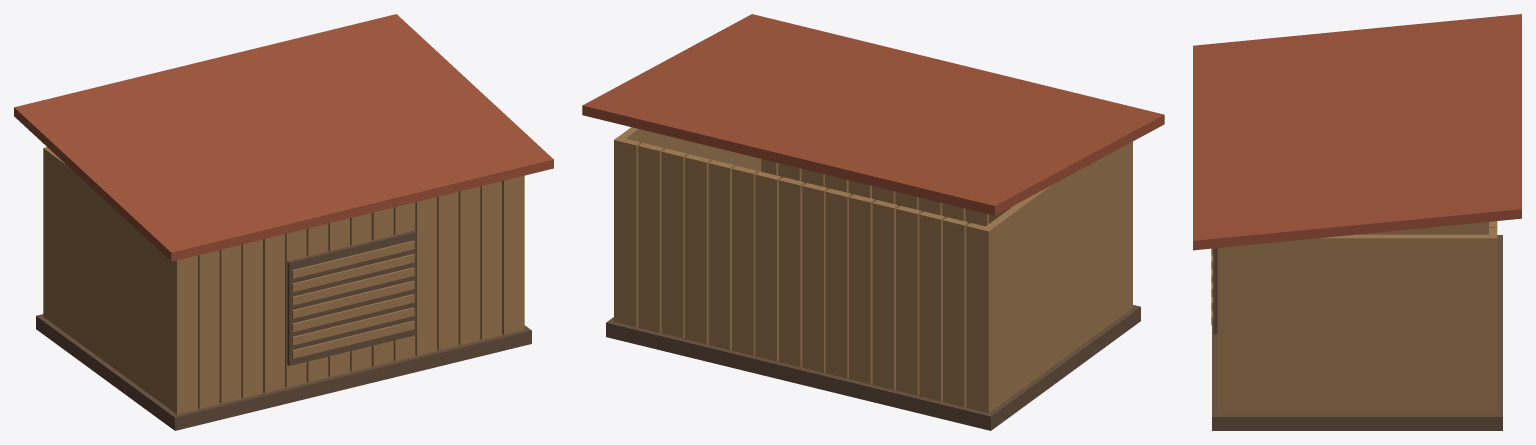
File: shed.glb
The picture shows the model from 3 angles, left to right: view 1: azimuth 30°, elevation 25°; view 2: azimuth 150°, elevation 25°; view 3: azimuth 270°, elevation 25°; orthographic projection. The views are drawn at different scales.
Visible parts, largest first — view 1: SM_ENV_shed; view 2: SM_ENV_shed; view 3: SM_ENV_shed.
Part boxes in pixels (x1=…): SM_ENV_shed: x1=14, y1=14, x2=553, y2=430; SM_ENV_shed: x1=582, y1=14, x2=1164, y2=430; SM_ENV_shed: x1=1193, y1=14, x2=1521, y2=430.
Bounding box in the file's own units: 6.6 × 3.6 × 4.7.
